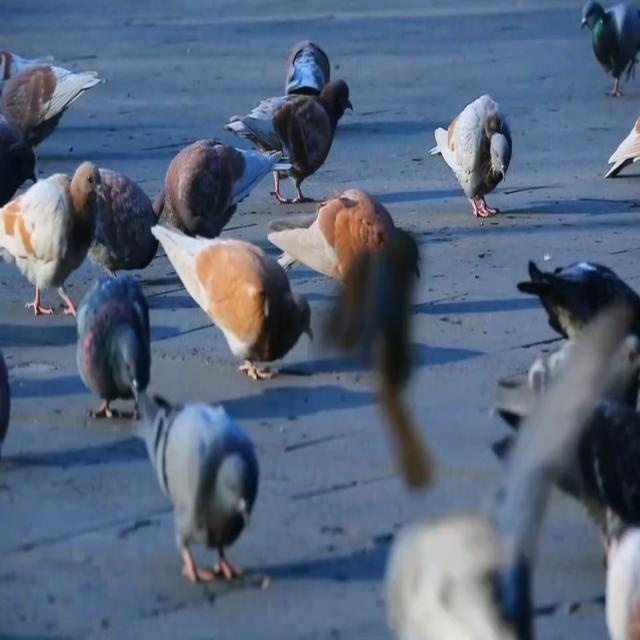bird: (368, 310, 640, 640), (316, 209, 486, 503), (118, 360, 274, 628), (138, 209, 328, 412), (261, 195, 454, 358), (487, 363, 640, 565), (482, 304, 640, 458), (61, 239, 172, 452), (212, 79, 372, 211), (0, 144, 105, 344), (54, 138, 177, 289), (410, 78, 530, 232), (128, 125, 288, 240), (505, 234, 640, 364), (0, 25, 108, 149), (557, 480, 640, 640), (0, 296, 47, 483), (561, 0, 640, 101), (274, 27, 332, 107), (0, 99, 42, 208), (596, 110, 640, 179)
